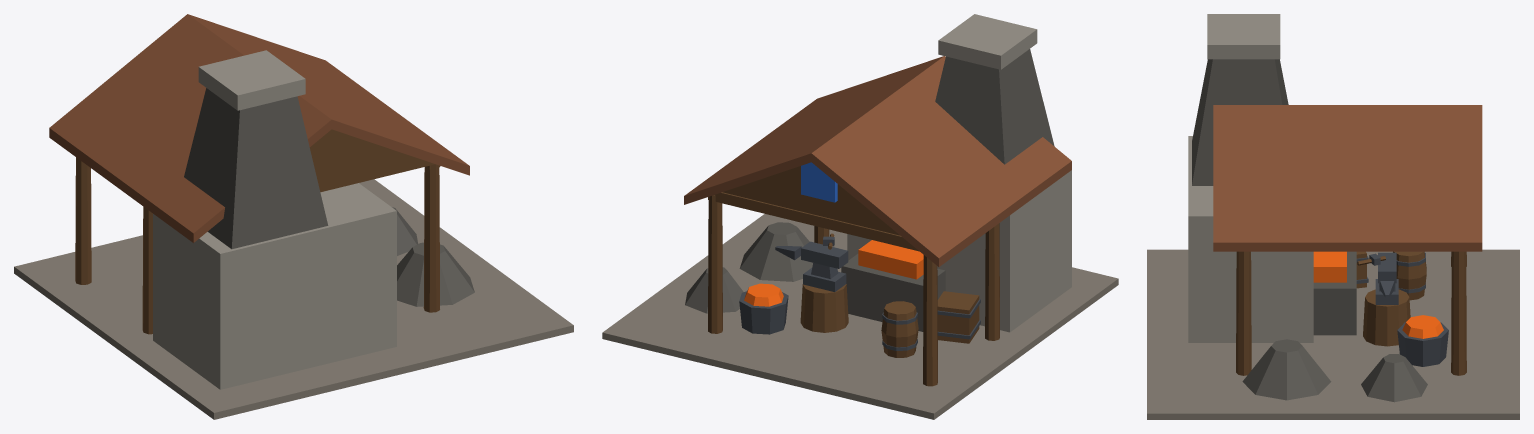
Rendered from Blacksmith.obj.
3 renders of one model, left to right at view 1: azimuth 30°, elevation 25°; view 2: azimuth 150°, elevation 25°; view 3: azimuth 270°, elevation 25°, orthographic. The views are drawn at different scales.
Visible parts, largest first — view 1: Blacksmith_stone, Blacksmith_roof_cedar, Blacksmith_cobble, Blacksmith_dark_stone, Blacksmith_timber; view 2: Blacksmith_roof_cedar, Blacksmith_cobble, Blacksmith_timber, Blacksmith_dark_stone, Blacksmith_stone, Blacksmith_iron, Blacksmith_ember, Blacksmith_banner_team; view 3: Blacksmith_roof_cedar, Blacksmith_cobble, Blacksmith_stone, Blacksmith_dark_stone, Blacksmith_timber, Blacksmith_iron, Blacksmith_ember.
Part boxes in pixels (x1,y1,x2,y2): Blacksmith_stone: (153, 50, 396, 389); Blacksmith_roof_cedar: (49, 14, 469, 242); Blacksmith_cobble: (14, 179, 573, 419); Blacksmith_dark_stone: (184, 88, 474, 306); Blacksmith_timber: (75, 129, 440, 334); Blacksmith_roof_cedar: (684, 56, 1071, 266); Blacksmith_cobble: (602, 214, 1118, 419); Blacksmith_timber: (708, 166, 999, 386); Blacksmith_dark_stone: (685, 49, 1054, 331); Blacksmith_stone: (847, 14, 1071, 332); Blacksmith_iron: (739, 236, 980, 350); Blacksmith_ember: (744, 240, 923, 306); Blacksmith_banner_team: (801, 162, 837, 202); Blacksmith_roof_cedar: (1213, 105, 1482, 251); Blacksmith_cobble: (1147, 249, 1519, 419); Blacksmith_stone: (1188, 14, 1313, 342); Blacksmith_dark_stone: (1192, 59, 1427, 402); Blacksmith_timber: (1236, 251, 1466, 375); Blacksmith_iron: (1356, 252, 1448, 366); Blacksmith_ember: (1313, 251, 1443, 338).
Bounding box in the file's own units: 5.4 × 4.12 × 5.2.
